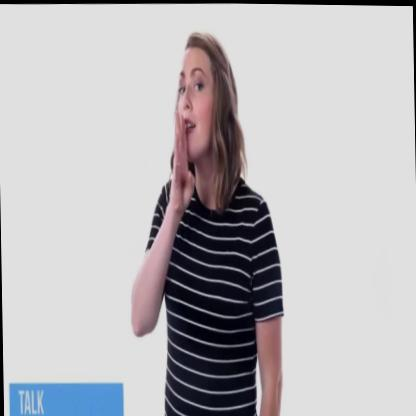Talk: (158, 32, 250, 243)
